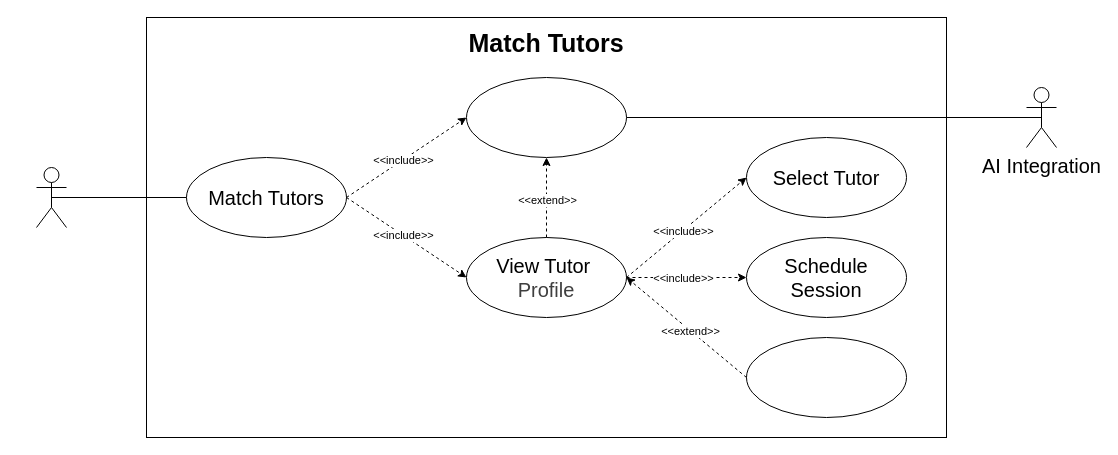
Some shapes in this 1118 by 455 pixel diagram are drawn without their labels. The shapes that lost their labels are listed below. From the top down, each one's centre as x and y in pixels, then its label:
At (546,117): "Generate Matching List".
At (51,197): "Student".
At (826,377): "Chat With Tutor".
